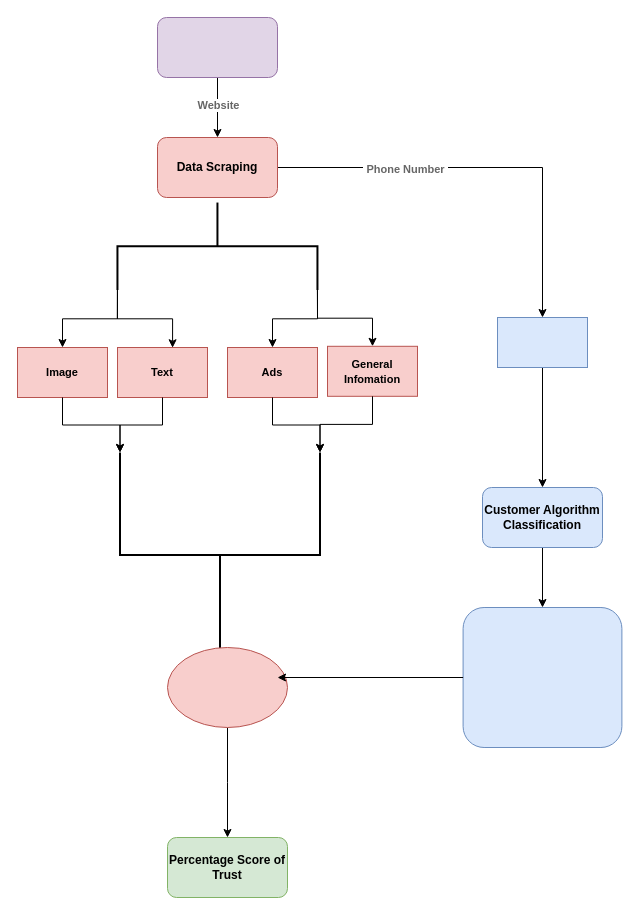
Image size: 640x915. Some labels were removed from this diagram. The centre of each missing label's shape, as x and y in pixels:
Customer Care: point 542,342
ML Algorithm: point 227,687
number get classified as: personal legitmate fruad spam: point 542,677
User Input: point 217,47
